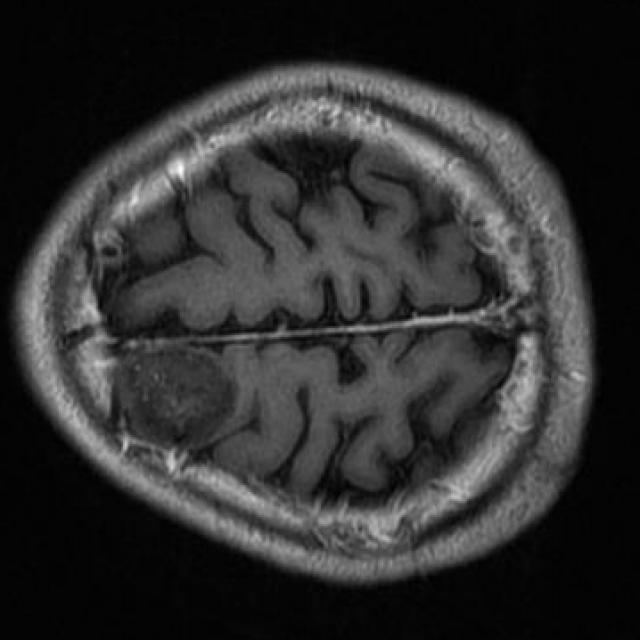glioma: (121, 348, 239, 451)
